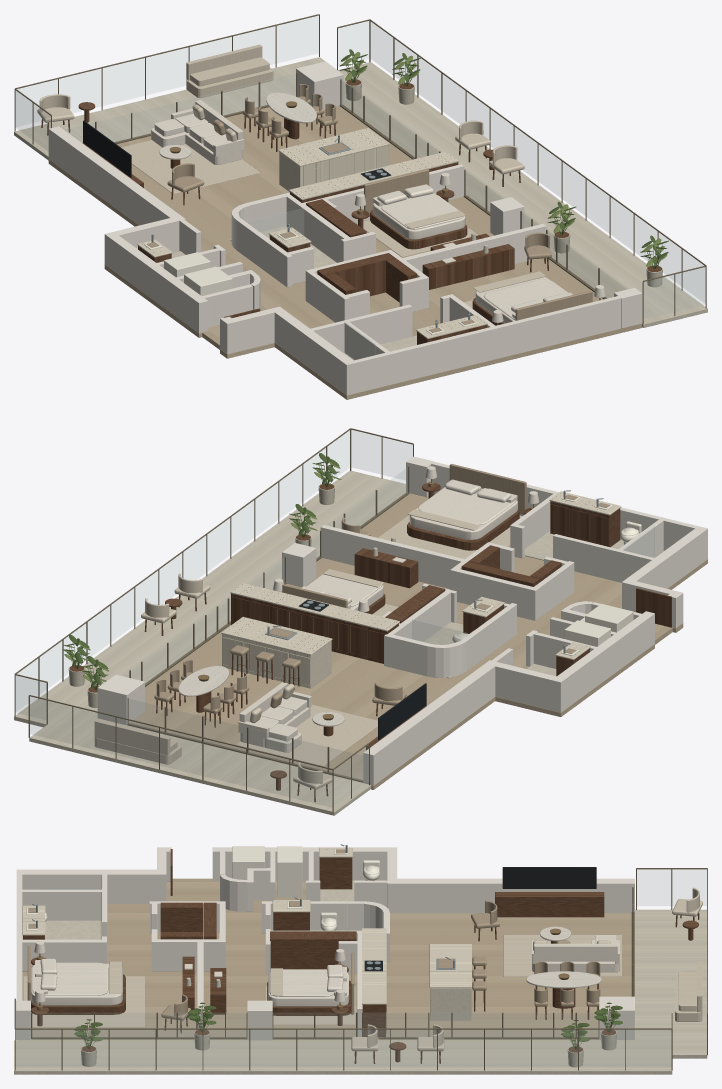
3 renders of one model, top to bottom at view 1: azimuth 30°, elevation 25°; view 2: azimuth 150°, elevation 25°; view 3: azimuth 270°, elevation 25°, orthographic. The views are drawn at different scales.
Size of the model in its own units: 11.19 by 1.42 by 16.91.
17 materials, 8 textured.
